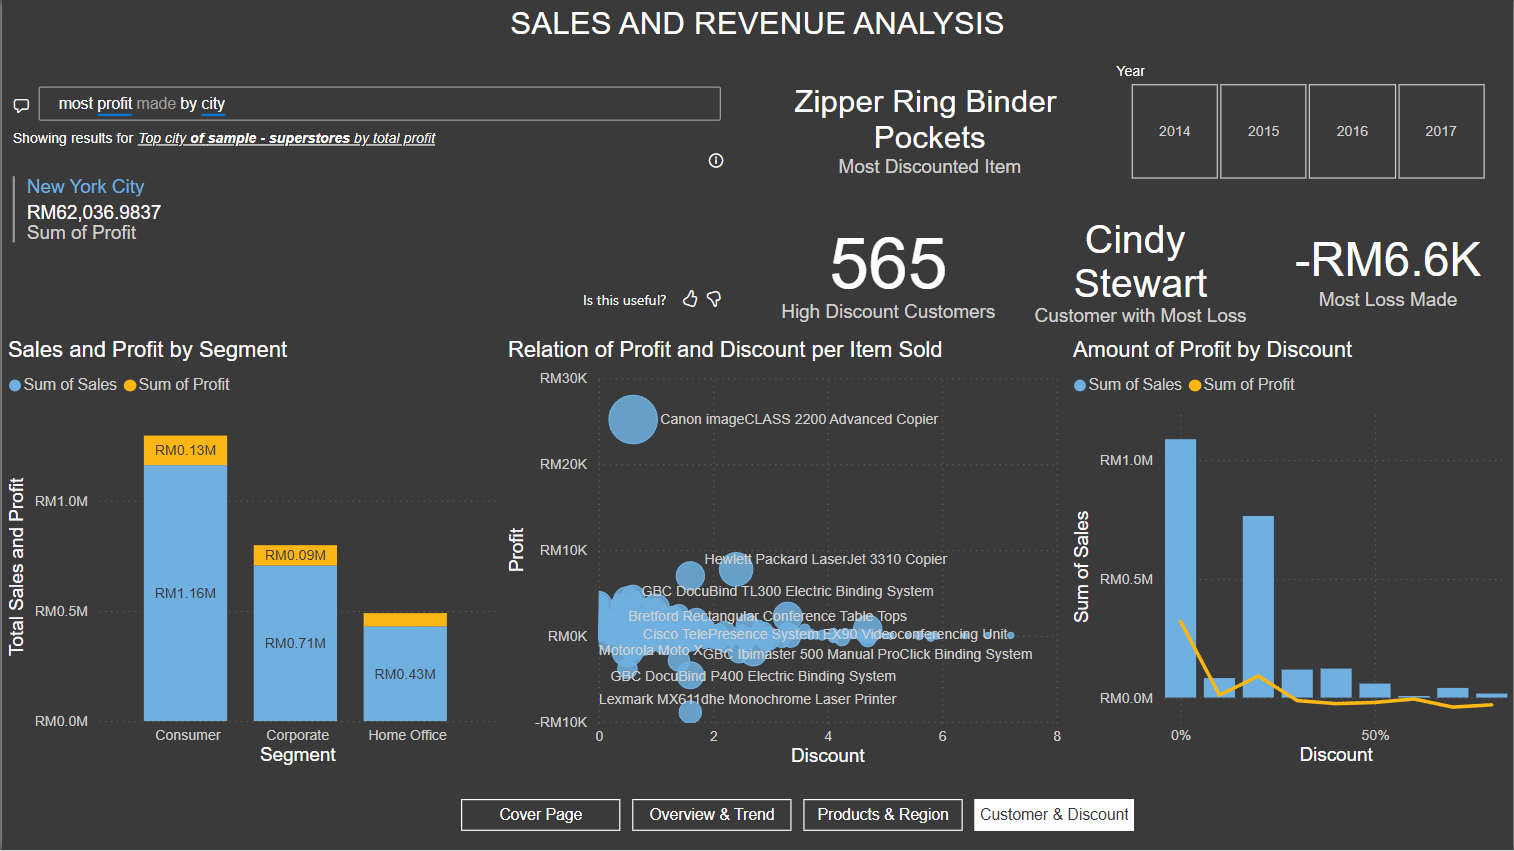

Layout of this report page (visuals, bound fields, positions):
{"tool":"powerbi","page":{"name":"Customer & Discount","canvas":[1280,720],"ordinal":3},"visuals":[{"type":"textbox","box":[0,0,1280,48.8],"z":0},{"type":"card","fields":{"Values":["Sample - Superstore.Profit"]},"box":[1068.3,167.3,211.7,117.9],"z":1000},{"type":"card","fields":{"Values":["Sample - Superstore.Customer with Most Loss"]},"box":[860.7,167.3,207.6,117.9],"z":2000},{"type":"card","fields":{"Values":["Sample - Superstore.Most Discounted Item"]},"box":[640,48.4,291.3,118.9],"z":3000},{"type":"card","fields":{"Values":["Sample - Superstore.High Discount Customers"]},"box":[640,167.3,220.7,117.9],"z":4000},{"type":"columnChart","title":"Sales and Profit by Segment","fields":{"Category":["Sample - Superstore.Segment"],"Y":["Sample - Superstore.Sales","Sample - Superstore.Profit"]},"box":[0,285.2,423.3,367.9],"z":5000},{"type":"scatterChart","title":"Relation of Profit and Discount per Item Sold","fields":{"Y":["Sample - Superstore.Profit"],"Size":["Sample - Superstore.Sales"],"Category":["Sample - Superstore.Product Name"],"X":["Sample - Superstore.Discount"]},"box":[423.3,285.2,478.7,367.9],"z":6000},{"type":"lineClusteredColumnComboChart","title":"Amount of Profit by Discount ","fields":{"Category":["Sample - Superstore.Discount (bins)"],"Y2":["Sample - Superstore.Profit"],"Y":["Sample - Superstore.Sales"]},"box":[902,285.2,378,367.9],"z":7000},{"type":"pageNavigator","box":[389.1,676.4,571.7,27.9],"z":8000},{"type":"qnaVisual","box":[0,48.4,617.8,218.7],"z":9000},{"type":"slicer","fields":{"Values":["Sample - Superstore.Order Date.Variation.Date Hierarchy.Year"]},"box":[931.3,48.4,348.7,109.9],"z":10000}]}

Visuals, with their boxes in screenshot pixels (x1, y1, x2, y2), scaled from the page's 1280x720 canvas onto the 1514x851 screenshot:
textbox: (0,0,1513,58)
card - Sample - Superstore.Profit: (1264,198,1513,337)
card - Sample - Superstore.Customer with Most Loss: (1018,198,1264,337)
card - Sample - Superstore.Most Discounted Item: (757,57,1102,198)
card - Sample - Superstore.High Discount Customers: (757,198,1018,337)
"Sales and Profit by Segment" columnChart: (0,337,501,772)
"Relation of Profit and Discount per Item Sold" scatterChart: (501,337,1067,772)
"Amount of Profit by Discount " lineClusteredColumnComboChart: (1067,337,1513,772)
pageNavigator: (460,799,1136,832)
qnaVisual: (0,57,731,316)
slicer - Sample - Superstore.Order Date.Variation.Date Hierarchy.Year: (1102,57,1513,187)
